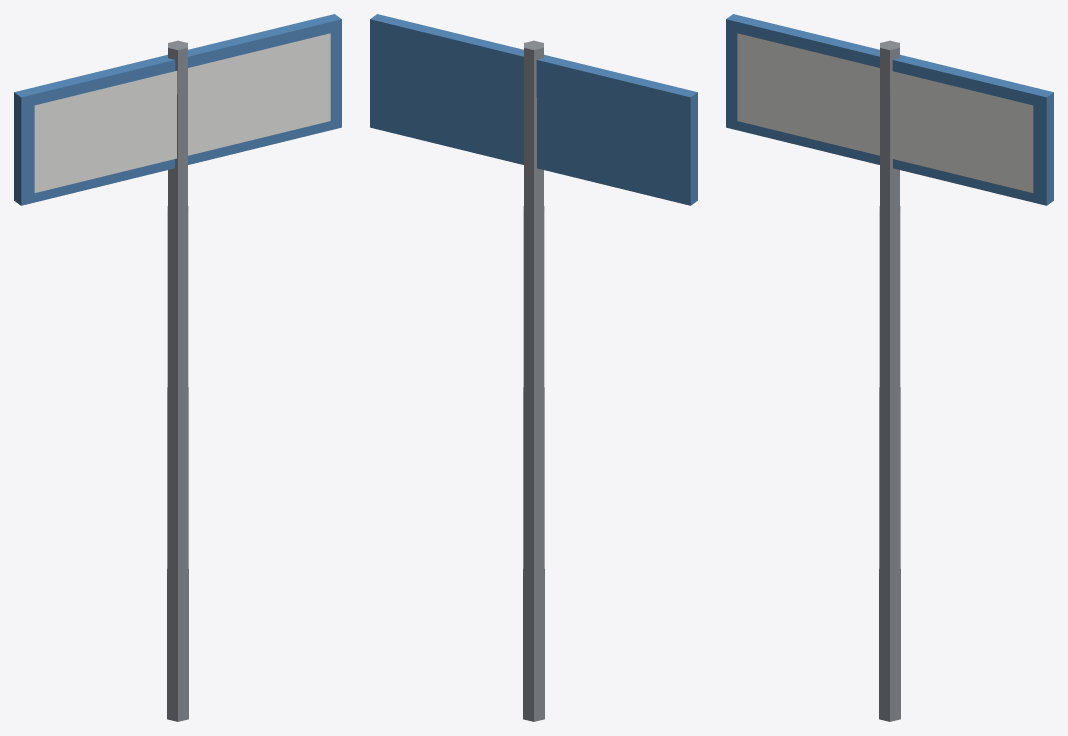
The model's file is prop-sign-blue.glb.
The picture shows the model from 3 angles, left to right: view 1: azimuth 30°, elevation 25°; view 2: azimuth 150°, elevation 25°; view 3: azimuth 330°, elevation 25°; orthographic projection.
Visible parts, largest first — view 1: sign-border, sign-post, sign-board; view 2: sign-board, sign-post; view 3: sign-border, sign-post, sign-board.
Part boxes in pixels (x1,y1,x2,y2): sign-border: (34, 33, 330, 192); sign-post: (167, 40, 188, 721); sign-board: (14, 14, 341, 205); sign-board: (370, 14, 697, 205); sign-post: (523, 40, 544, 721); sign-border: (737, 33, 1033, 192); sign-post: (879, 40, 900, 721); sign-board: (726, 14, 1053, 205).
Bounding box in the file's own units: 1.3 × 2.6 × 0.0779.
